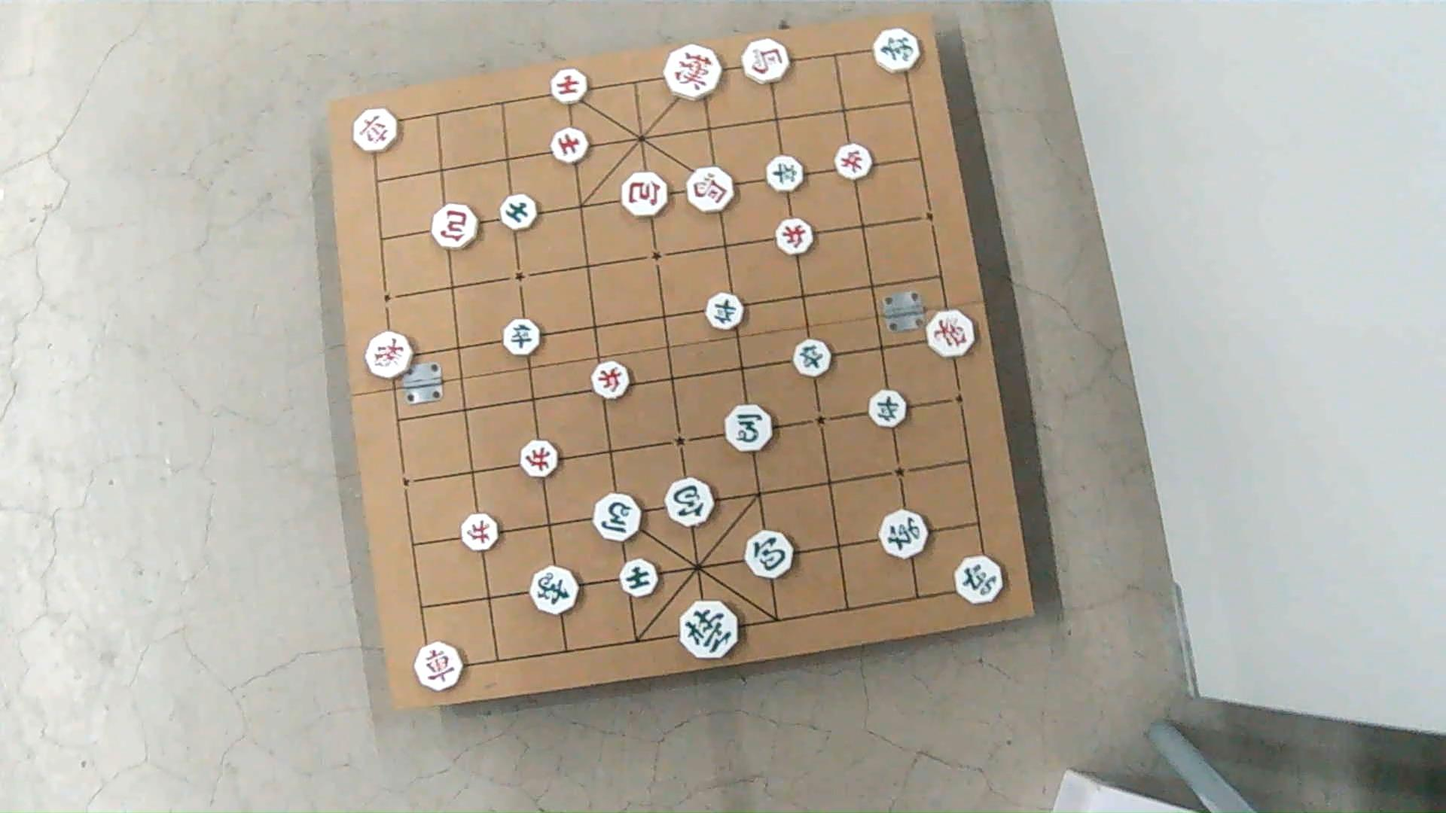cha_green: (955, 553, 1005, 601), (880, 510, 927, 558)
cha_red: (417, 643, 465, 692), (355, 109, 400, 153)
jol_green: (505, 318, 544, 356), (870, 391, 908, 429), (793, 339, 832, 376), (768, 157, 806, 194), (707, 292, 744, 329)
jol_red: (591, 360, 630, 398), (521, 441, 559, 479), (462, 515, 499, 553), (836, 144, 874, 181), (778, 219, 815, 256)
ma_green: (592, 493, 642, 540), (725, 404, 773, 451)
ma_red: (687, 166, 734, 212), (744, 38, 792, 83)
po_green: (747, 531, 795, 579), (667, 480, 715, 528)
po_red: (432, 205, 479, 249), (623, 174, 668, 218)
sa_green: (621, 559, 659, 598), (501, 193, 537, 230)
sa_red: (550, 69, 587, 104), (552, 128, 588, 163)
sang_green: (532, 565, 580, 613), (871, 29, 920, 74)
sang_red: (928, 310, 977, 358), (368, 332, 414, 378)
wang_green: (681, 601, 740, 660)
wang_red: (664, 42, 720, 96)
